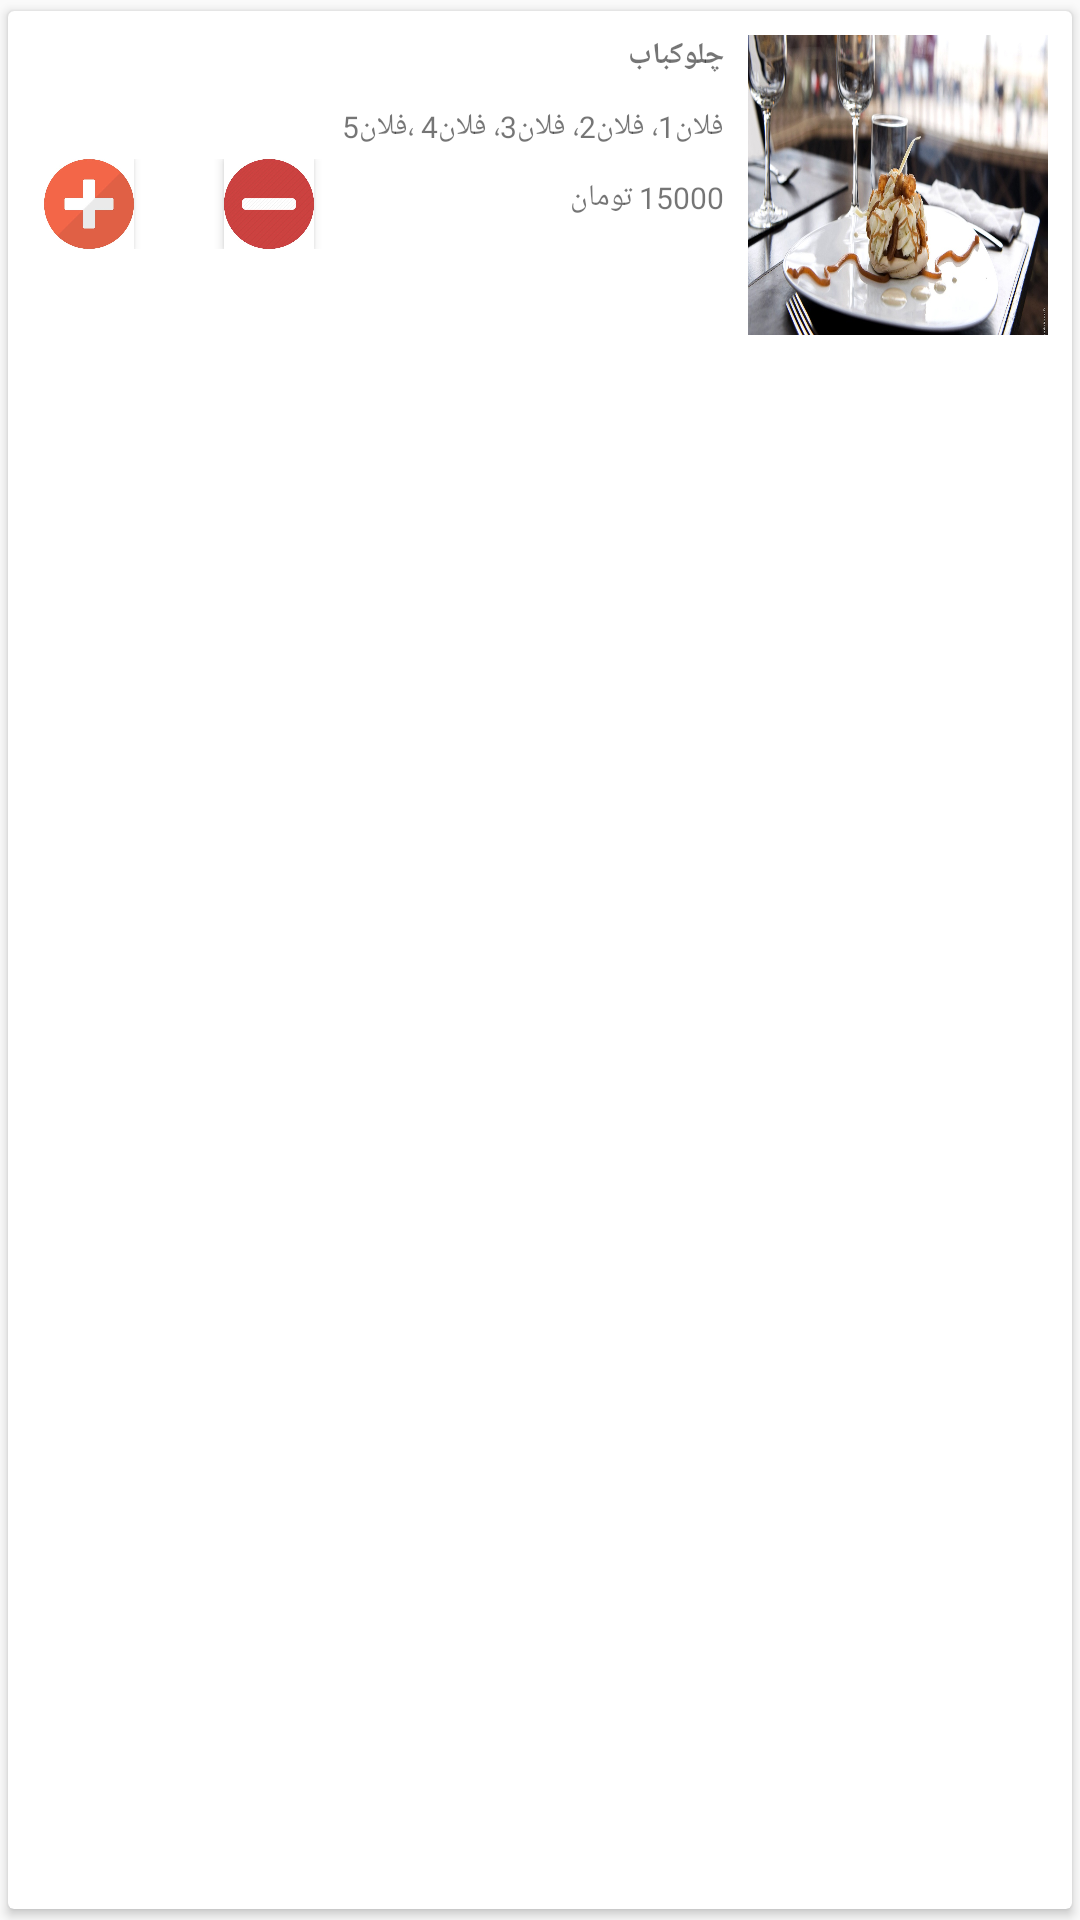

Icon click points for this 1080x1920 phone screenshot, format (x,y):
minus: (269,204)
plus: (89,204)
